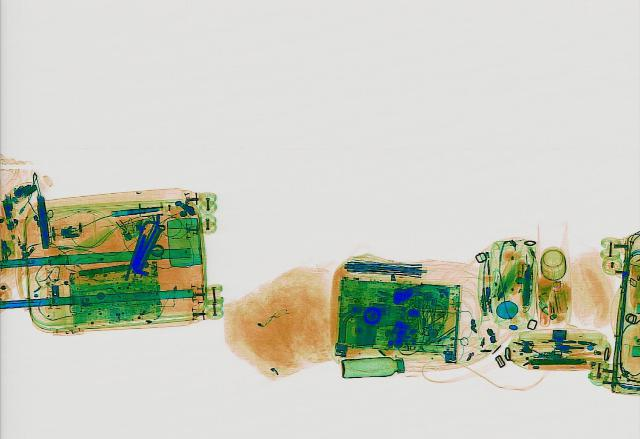Wrench: (130, 223, 167, 279)
